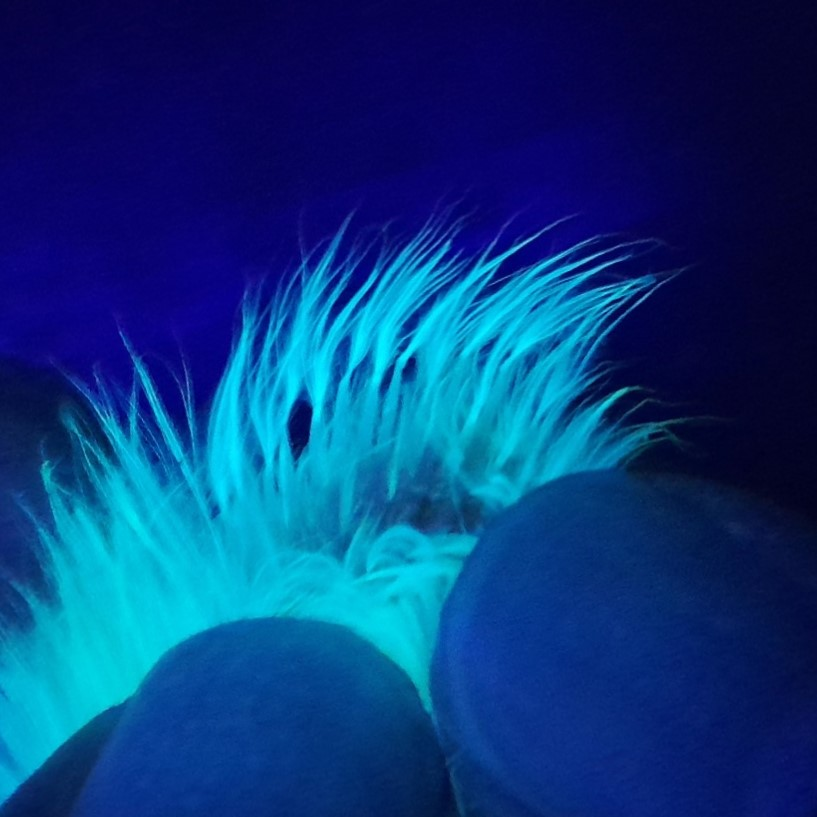male: (269, 335, 572, 603)
